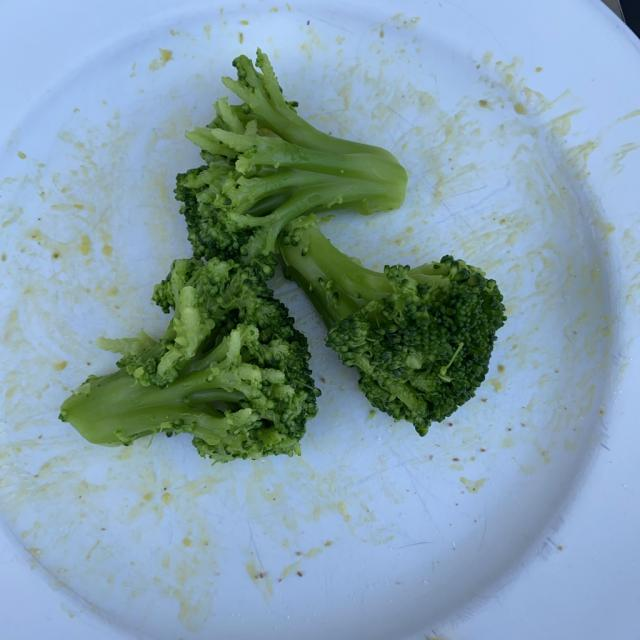broccoli: (31, 48, 514, 459)
